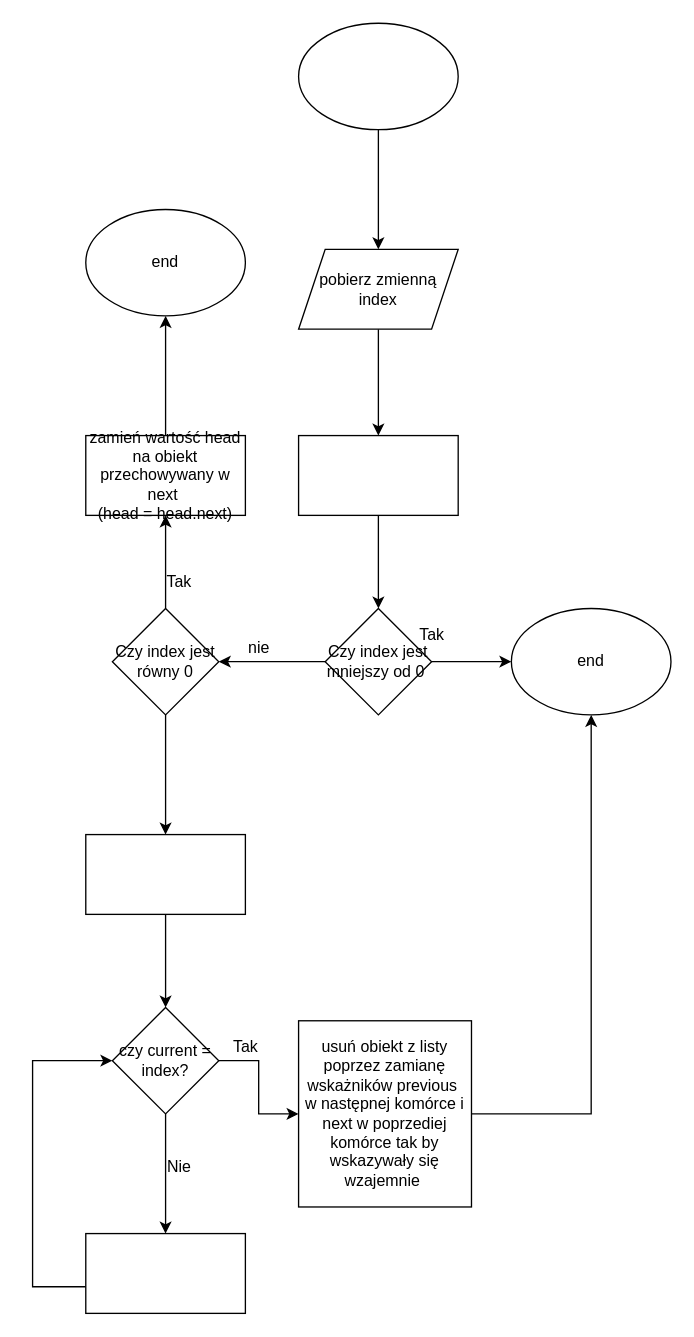
This 694x1337 diagram has some shape labels left out. Here are the shapes that lost their labels. From the top down, the box of each, then its label:
(297, 22, 458, 130): start
(297, 434, 458, 515): przypisz head do cell
(84, 833, 245, 914): Stwórz zmienną current = 0
(84, 1232, 245, 1313): przypisz paramtetr next cell do cell (cell = cell.next), zwiększ current o 1
